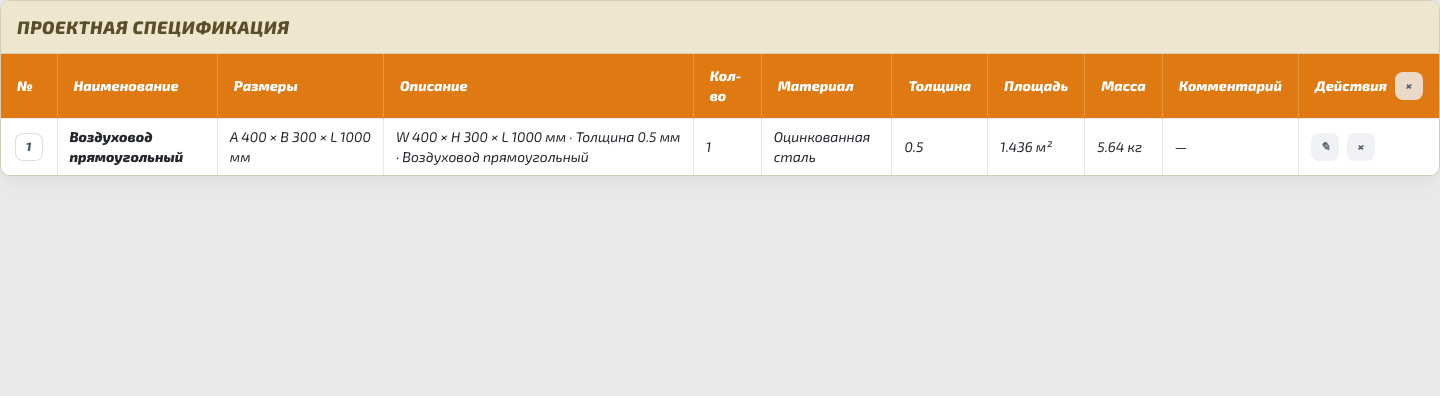
Test: specification row preview › uses the inline PRM-001 visual in the row preview instead of placeholder text
Hover over the button named "Показать превью позиции 1" at (29, 147), box [15,133,43,161]
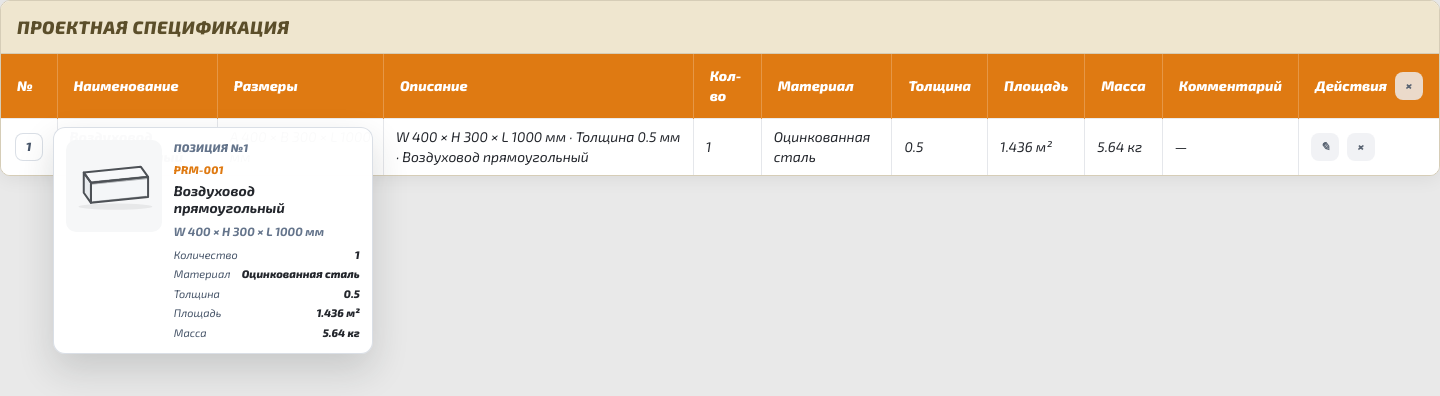
Now the tooltip with id "spec-row-preview-preview-test-item" is shown, box [53,127,373,354]
Now the picture named "PRM-001 Воздуховод прямоугольный" is shown, box [66,140,162,232]
Now the tooltip with id "spec-row-preview-preview-test-item" shows "PRM-001", box [174,162,224,176]
